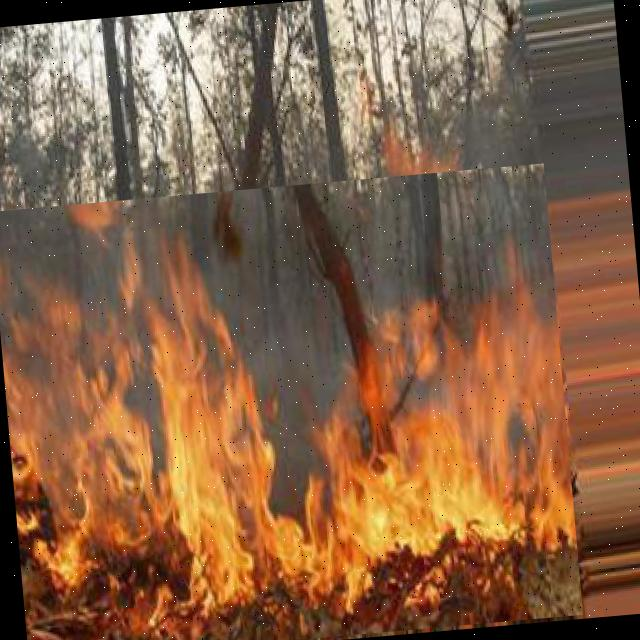fire: (0, 163, 582, 640)
